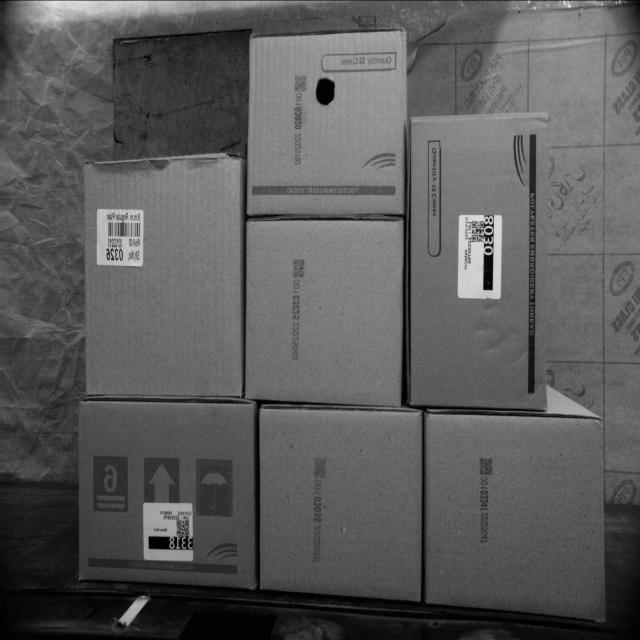cardboxes: (408, 112, 548, 407), (88, 156, 241, 395), (78, 400, 260, 590), (243, 26, 408, 218), (243, 212, 405, 406), (63, 378, 66, 384)
